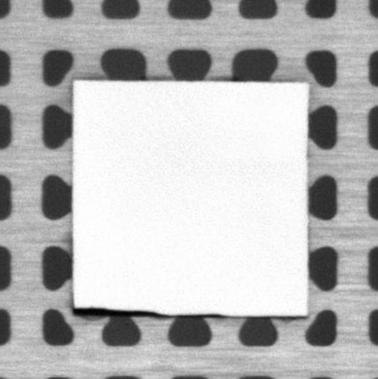DIE_BROKEN: (72, 304, 172, 319)
